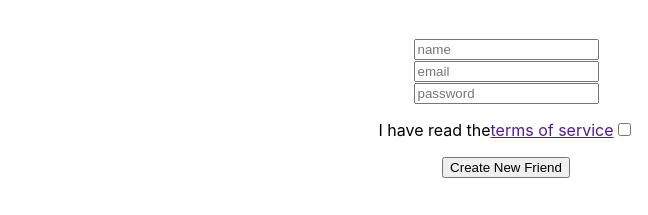
Testing Create New User Form › Ensure all expected input fields exist and operate correctly › all input fields must pass a specified schema before the submit button works › if password is less than 6 an error message appears
The image size is (648, 215).
Type "Dawson" into the field named "name" at (507, 51), box top-left (414, 40), bottom-right (599, 61)
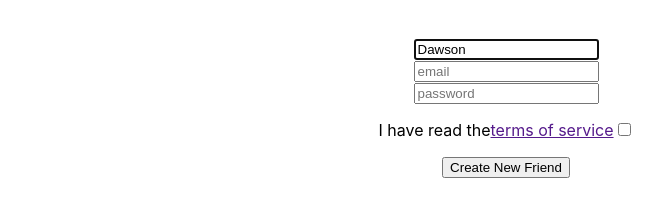
Type "dawsonreschke@gmail.com" into the field named "email" at (507, 73), box top-left (414, 62), bottom-right (599, 83)
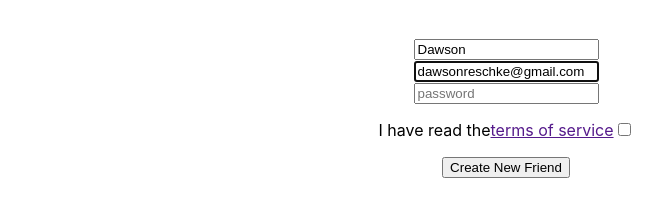
Type "12345" into the password field named "password" at (507, 95), box top-left (414, 84), bottom-right (599, 105)
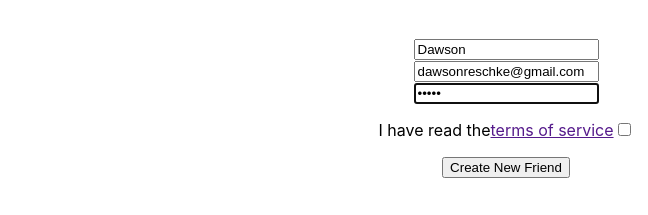
Click the checkbox named "tos" at (625, 131), box top-left (618, 124), bottom-right (631, 137)
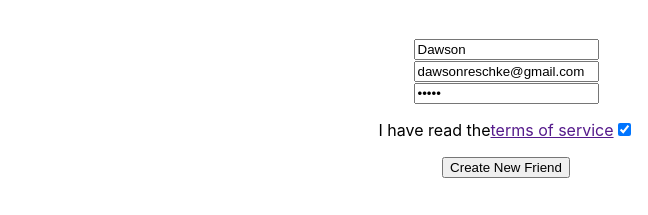
Click the button named "submitBtn" at (506, 169), box top-left (442, 158), bottom-right (570, 179)
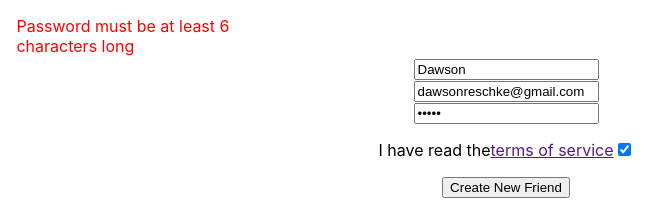
Result: the text "Password must be at least 6 characters long" is shown at top-left (16, 16), bottom-right (258, 56)
